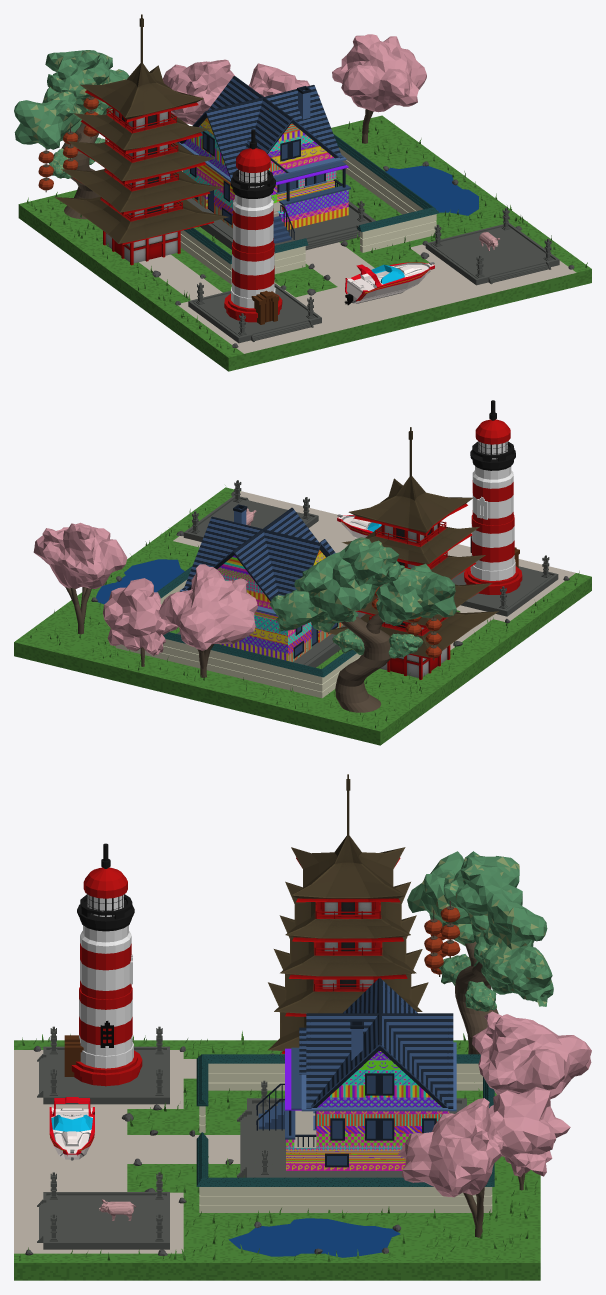
3 renders of one model, top to bottom at view 1: azimuth 30°, elevation 25°; view 2: azimuth 150°, elevation 25°; view 3: azimuth 270°, elevation 25°, orthographic. The views are drawn at different scales.
Visible parts, largest first — view 1: Cube.005, Cube.676, OBJRANDOM_LIGHTHOUSE, VEHICLES_BOAT; view 2: Cube.005, Cube.676, OBJRANDOM_LIGHTHOUSE, VEHICLES_BOAT; view 3: Cube.005, Cube.676, OBJRANDOM_LIGHTHOUSE, VEHICLES_BOAT.
Part boxes in pixels (x1,y1,x2,y2): Cube.005: (14,14,591,371); Cube.676: (177,76,350,243); OBJRANDOM_LIGHTHOUSE: (224,129,282,324); VEHICLES_BOAT: (344,262,434,305); Cube.005: (14,427,591,745); Cube.676: (179,504,342,661); OBJRANDOM_LIGHTHOUSE: (464,400,522,594); VEHICLES_BOAT: (337,514,381,538); Cube.005: (14,774,591,1280); Cube.676: (256,978,456,1170); OBJRANDOM_LIGHTHOUSE: (64,843,142,1086); VEHICLES_BOAT: (49,1097,94,1160).
Bounding box in the file's own units: 4528 × 2713 × 4389.
Materials: 44 (10 with a texture image).
